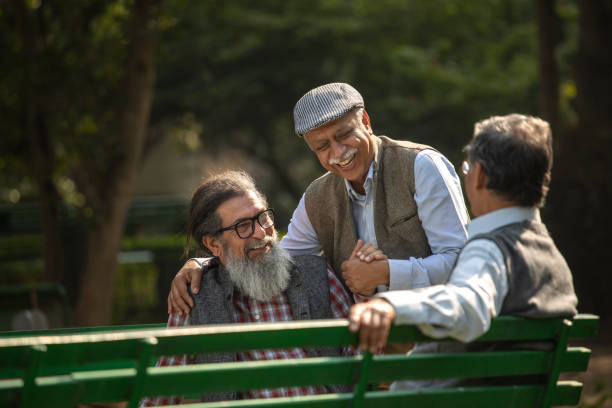13: (36, 313, 596, 405), (1, 323, 167, 406)
handguns: (340, 112, 580, 352), (280, 81, 472, 320), (157, 167, 346, 408), (166, 169, 308, 328)
